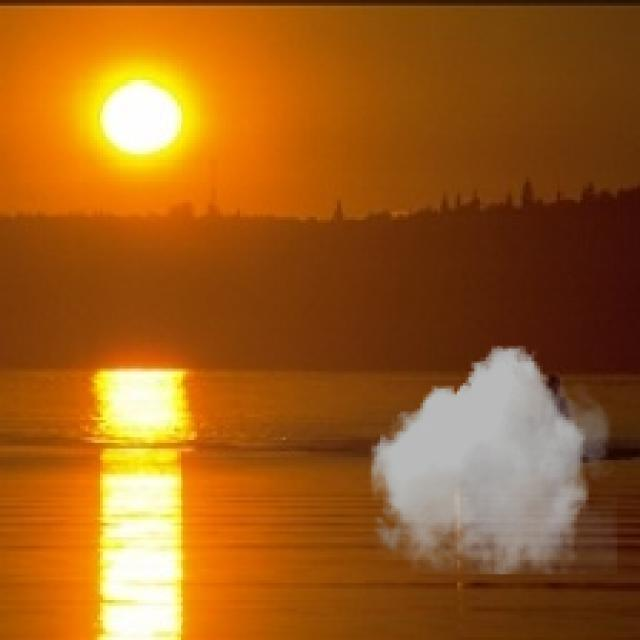Smoke: (366, 346, 618, 574)
